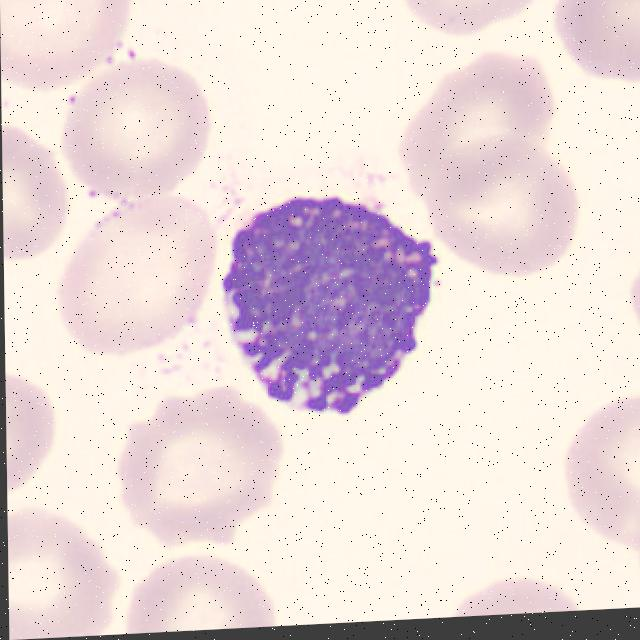basophil: (210, 181, 445, 421)
rbc: (42, 191, 225, 362), (384, 28, 555, 197), (423, 119, 586, 283), (57, 49, 218, 208), (118, 387, 279, 544), (8, 514, 116, 640), (128, 543, 277, 634), (558, 385, 640, 546), (1, 0, 138, 92), (2, 115, 75, 266), (428, 560, 591, 618), (5, 363, 69, 494), (554, 0, 640, 86), (363, 0, 566, 27), (630, 167, 640, 382), (172, 0, 272, 0)
